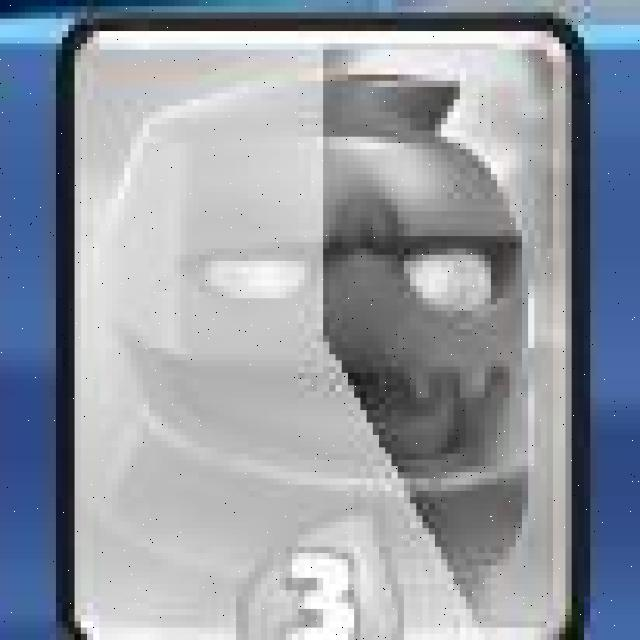Elixir_Golem: (52, 13, 581, 639)
